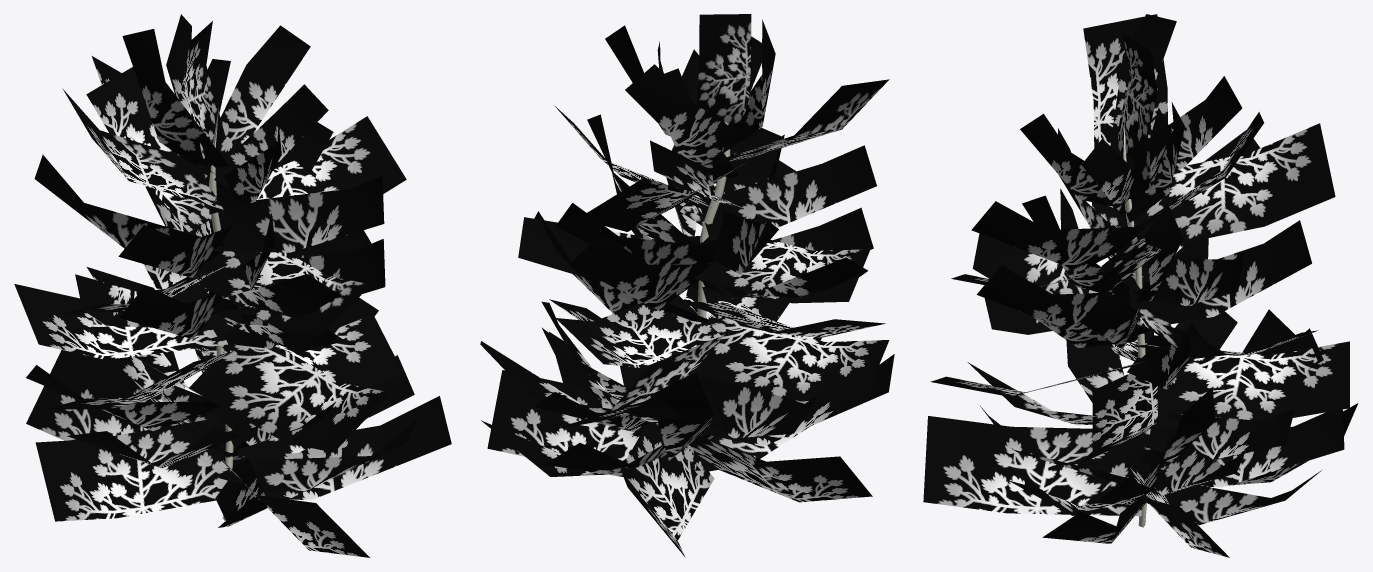
File: SM_Plant_08.glb
The picture shows the model from 3 angles, left to right: view 1: azimuth 30°, elevation 25°; view 2: azimuth 150°, elevation 25°; view 3: azimuth 270°, elevation 25°; orthographic projection. The views are drawn at different scales.
Visible parts, largest first — view 1: SM_Plant_08; view 2: SM_Plant_08; view 3: SM_Plant_08.
Part boxes in pixels (x1,y1,x2,y2): SM_Plant_08: (14, 14, 451, 557); SM_Plant_08: (480, 14, 894, 557); SM_Plant_08: (923, 14, 1358, 557).
Size of the model in its own units: 0.9928 by 1.28 by 1.05.
Materials: 2 (1 with a texture image).
